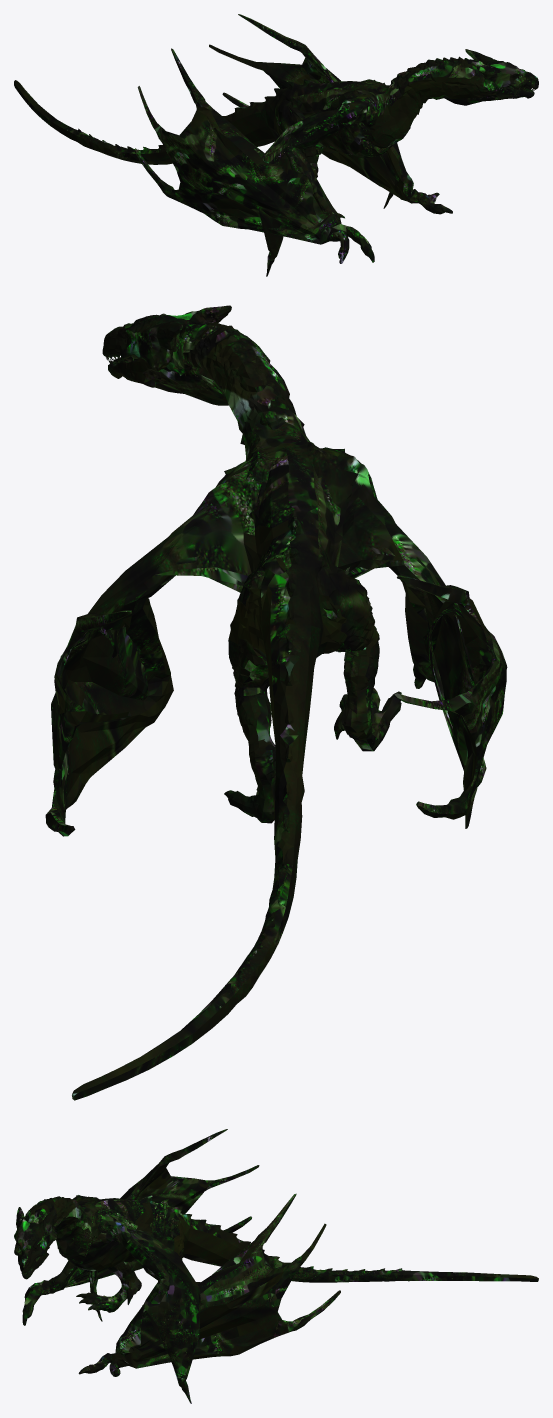
The model's file is frame_0013_uv.obj.
3 views of the same model, one above another, from view 1: azimuth 30°, elevation 25°; view 2: azimuth 150°, elevation 25°; view 3: azimuth 270°, elevation 25° (orthographic). The views are drawn at different scales.
Visible parts, largest first — view 1: pMesh1; view 2: pMesh1; view 3: pMesh1.
Part boxes in pixels (x1=…): pMesh1: x1=14, y1=14, x2=538, y2=276; pMesh1: x1=45, y1=305, x2=507, y2=1100; pMesh1: x1=14, y1=1129, x2=538, y2=1403.
Bounding box in the file's own units: 1.16 × 0.8121 × 1.93.
